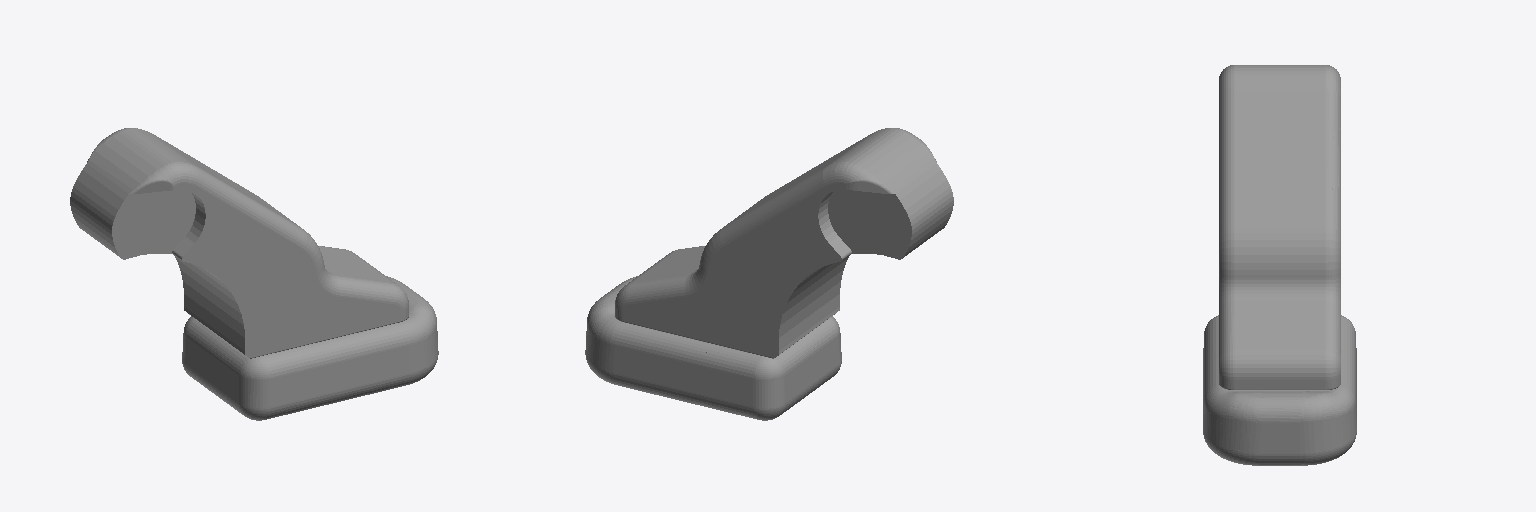
The model's file is finger_tip_H_UV_100430.obj.
3 renders of one model, left to right at view 1: azimuth 30°, elevation 25°; view 2: azimuth 150°, elevation 25°; view 3: azimuth 270°, elevation 25°, orthographic.
Parts seen in each view (by area): view 1: finger_tip_H_mod_finger_tip_H_modShape; view 2: finger_tip_H_mod_finger_tip_H_modShape; view 3: finger_tip_H_mod_finger_tip_H_modShape.
Boxes of the visible parts, <box> form: finger_tip_H_mod_finger_tip_H_modShape: <box>70,128,438,420</box>; finger_tip_H_mod_finger_tip_H_modShape: <box>585,128,953,420</box>; finger_tip_H_mod_finger_tip_H_modShape: <box>1203,65,1356,465</box>.
Size of the model in its own units: 0.0568 by 0.0448 by 0.023.